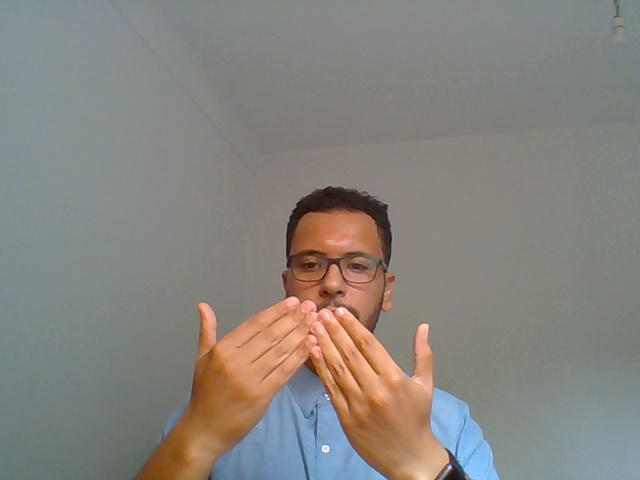thanks: (137, 293, 513, 480)
